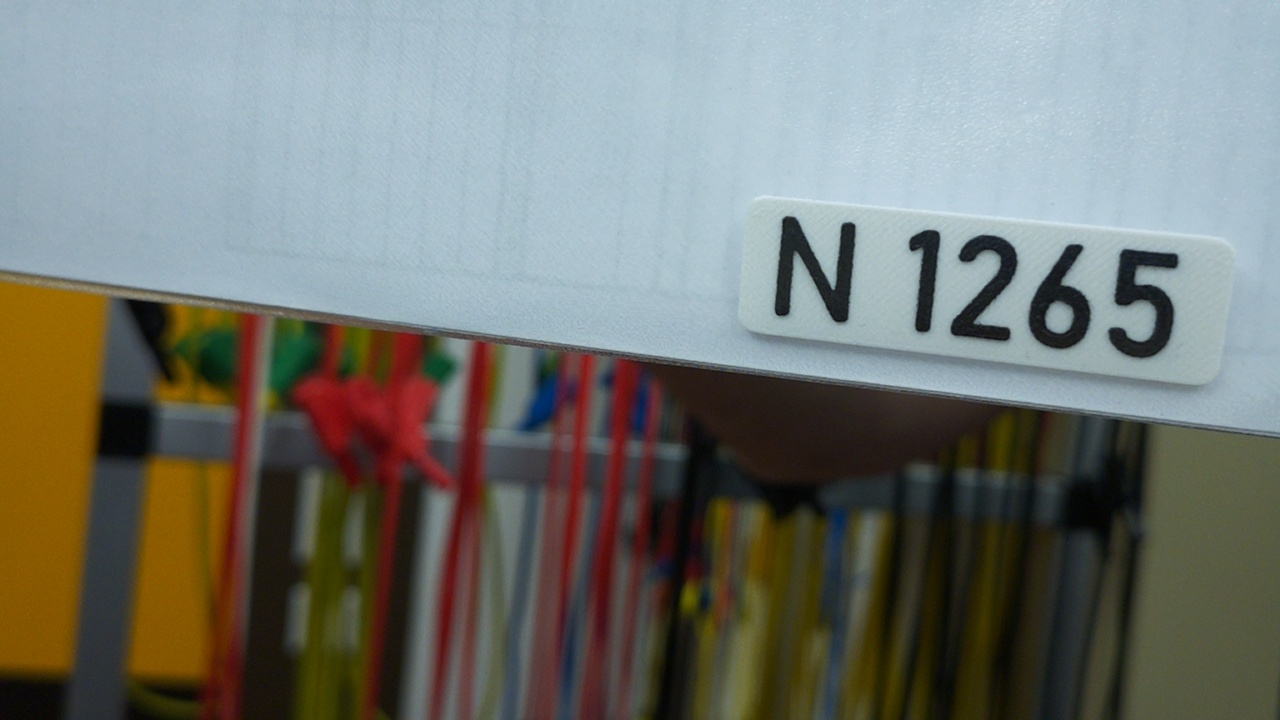license_plate: (737, 188, 1244, 388)
